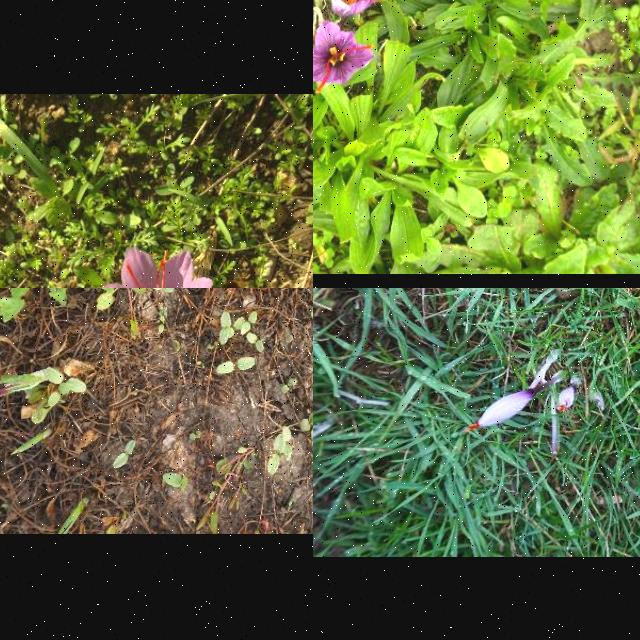flower: (98, 246, 213, 288), (313, 21, 376, 94), (470, 388, 538, 432), (329, 0, 392, 14), (557, 385, 579, 413)
